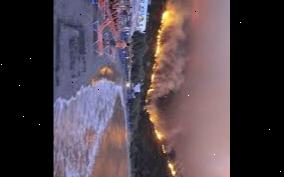fire: (152, 0, 190, 54), (145, 56, 166, 144), (159, 148, 195, 177)
